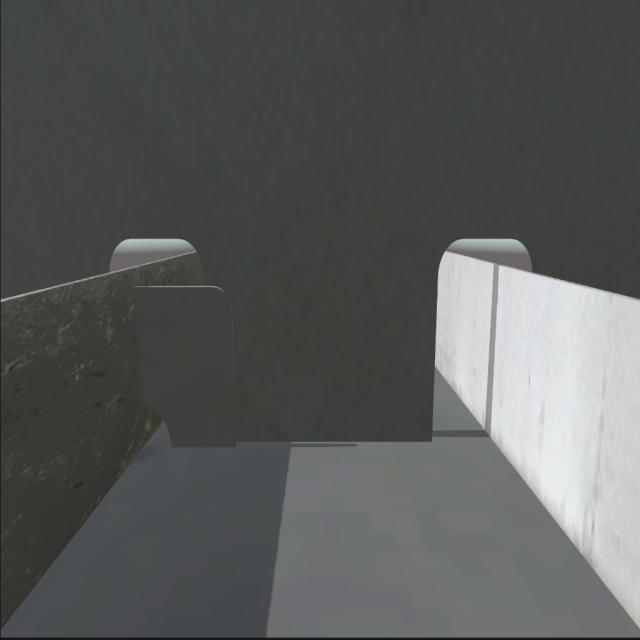fillet_hole: (140, 404, 172, 450)
fillet_yong_jeop_jang: (169, 432, 439, 454)
longi_yong_jeop_jang: (130, 274, 150, 412)
plate_CP05: (136, 282, 236, 452)
